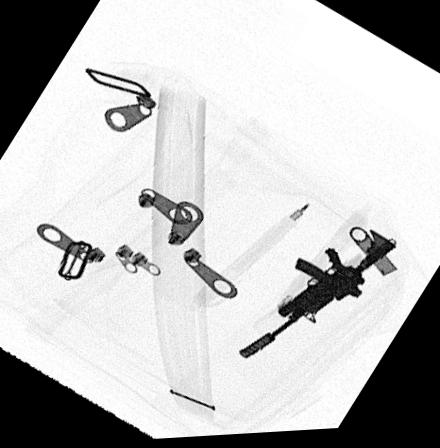Gun: (234, 234, 405, 363)
